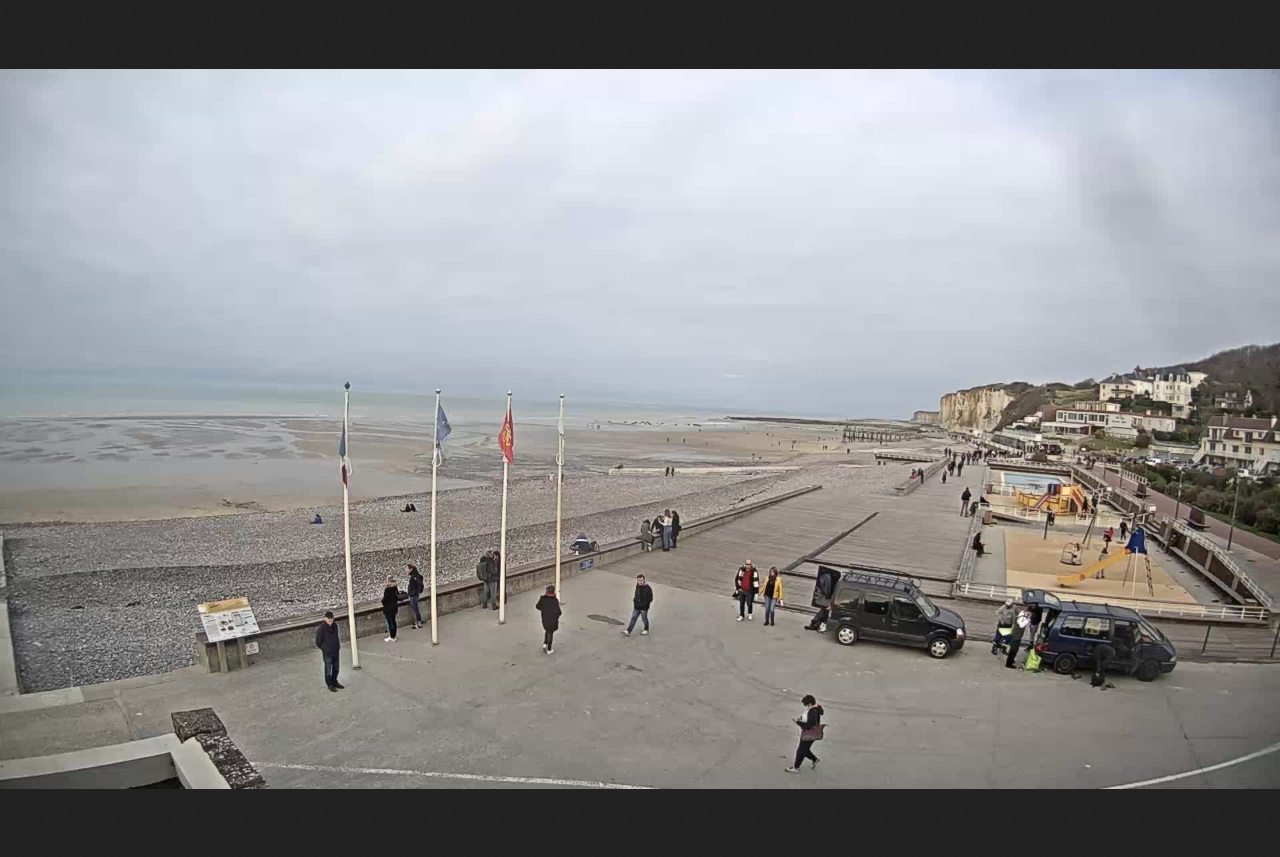no: (324, 375, 360, 487), (426, 386, 454, 467), (491, 384, 518, 467), (550, 388, 571, 472)
